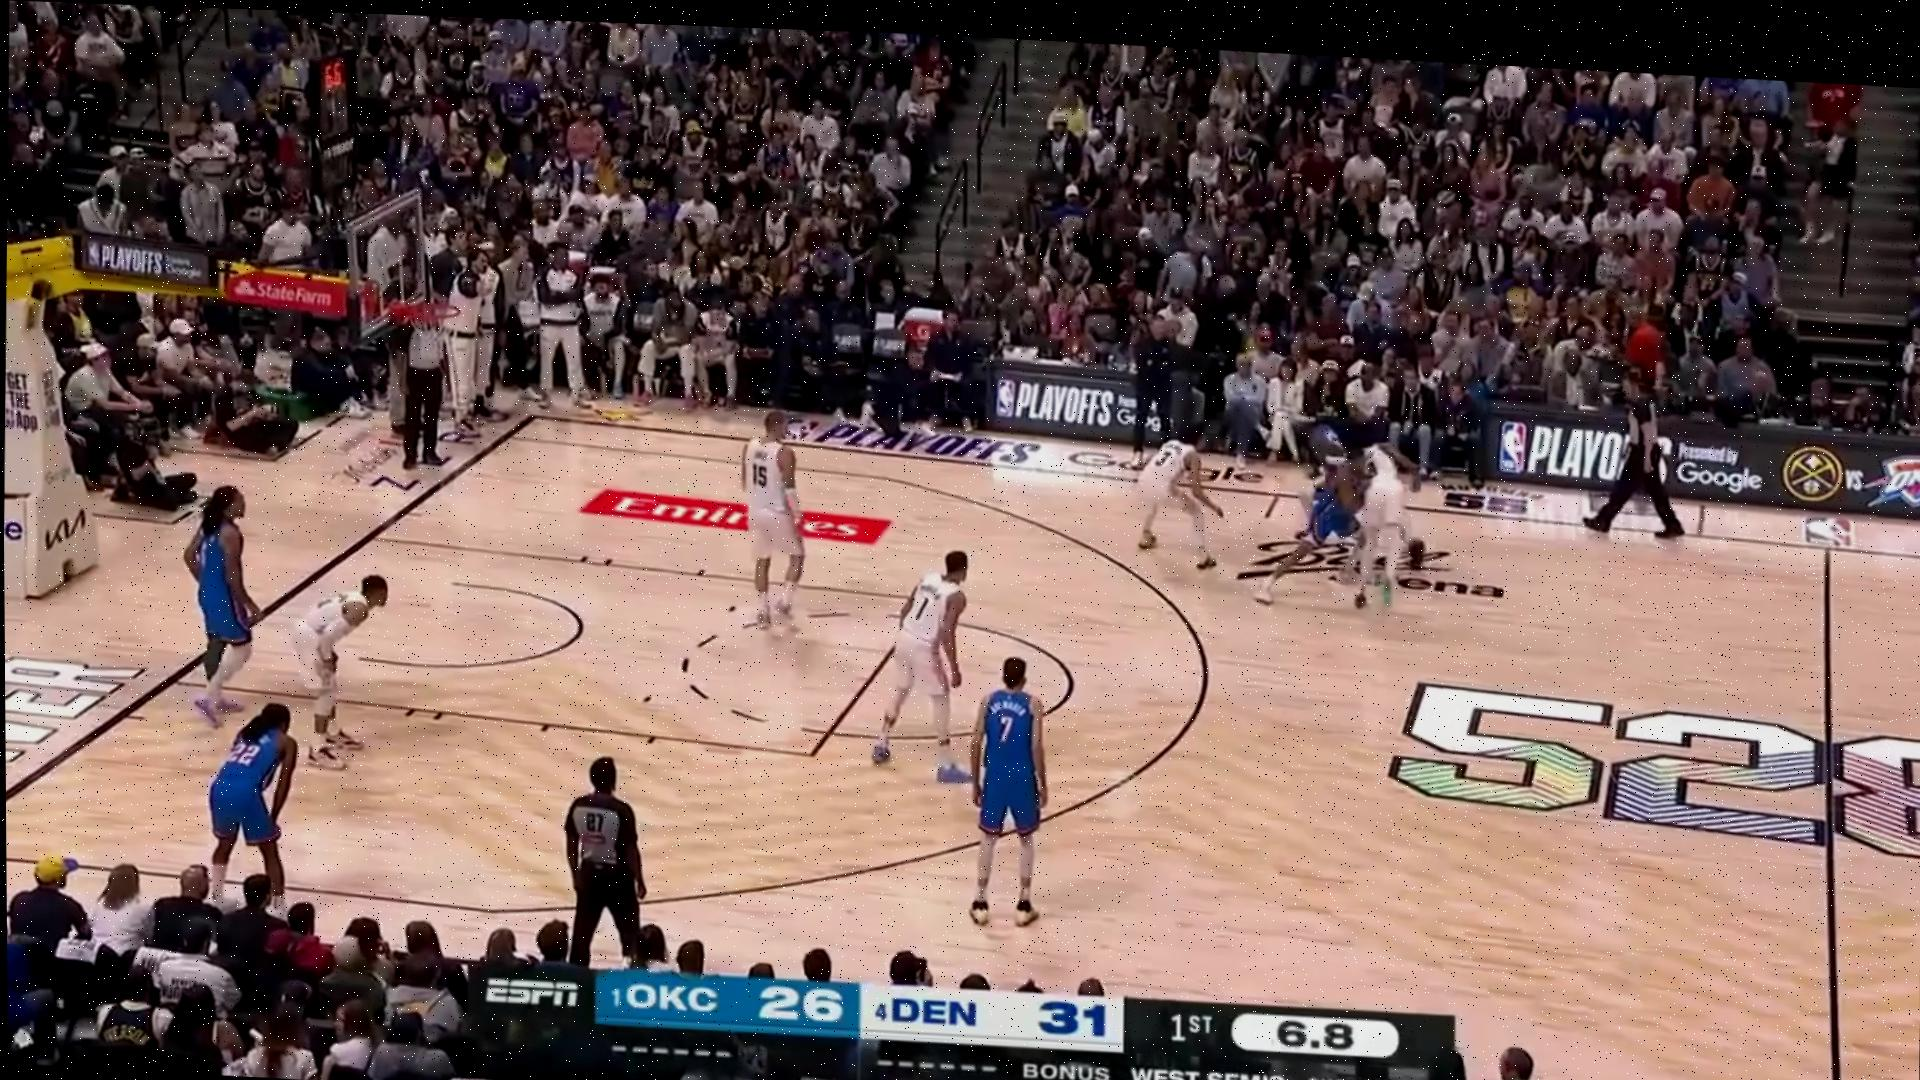foul: (1280, 407, 1455, 617)
